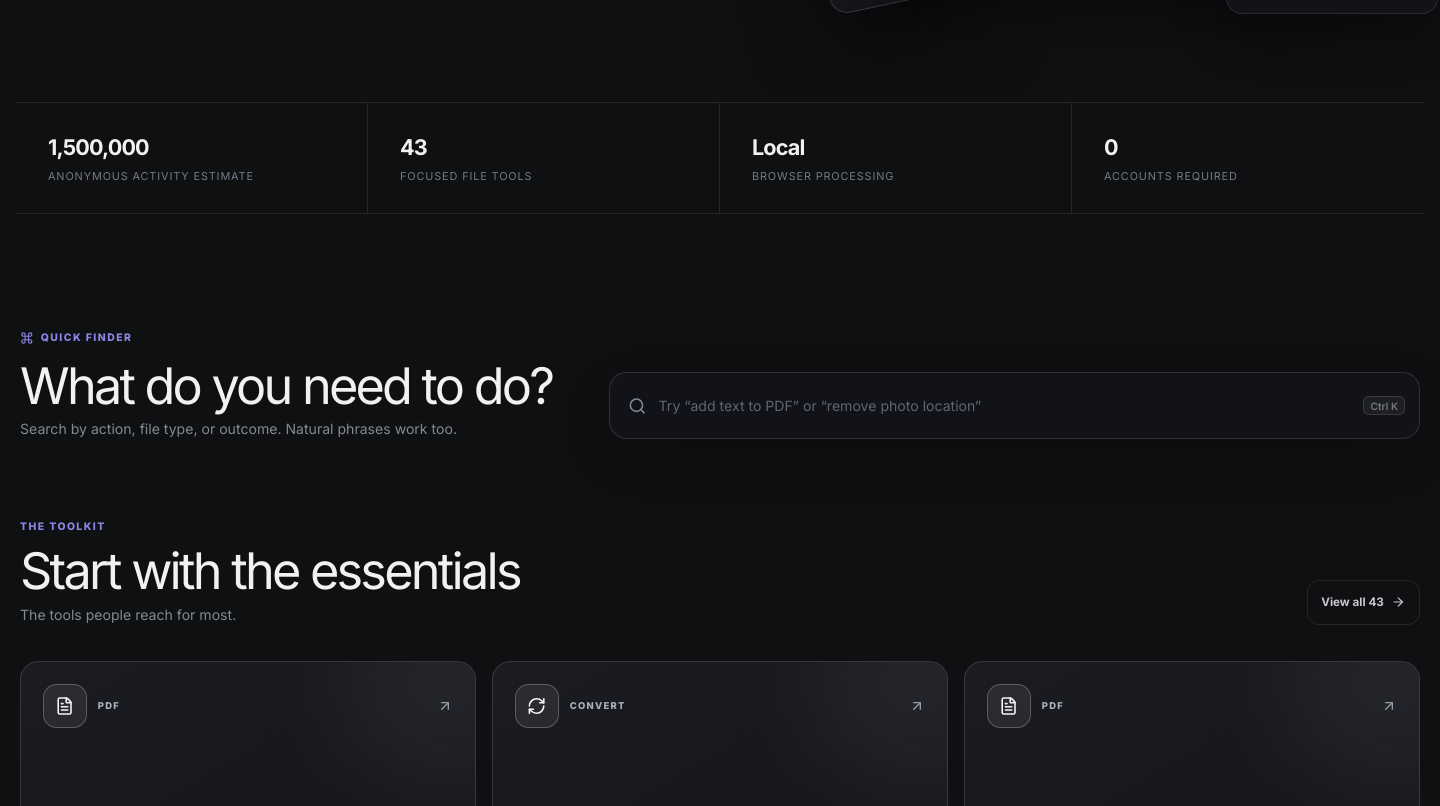
Test: Dashboard Component › recovers from close spelling mistakes and explains the smart match
(page scrolled)
In the search field named "Search all tools": x=1001, y=406 [659, 395, 1344, 416], type "imgae comrpessor"
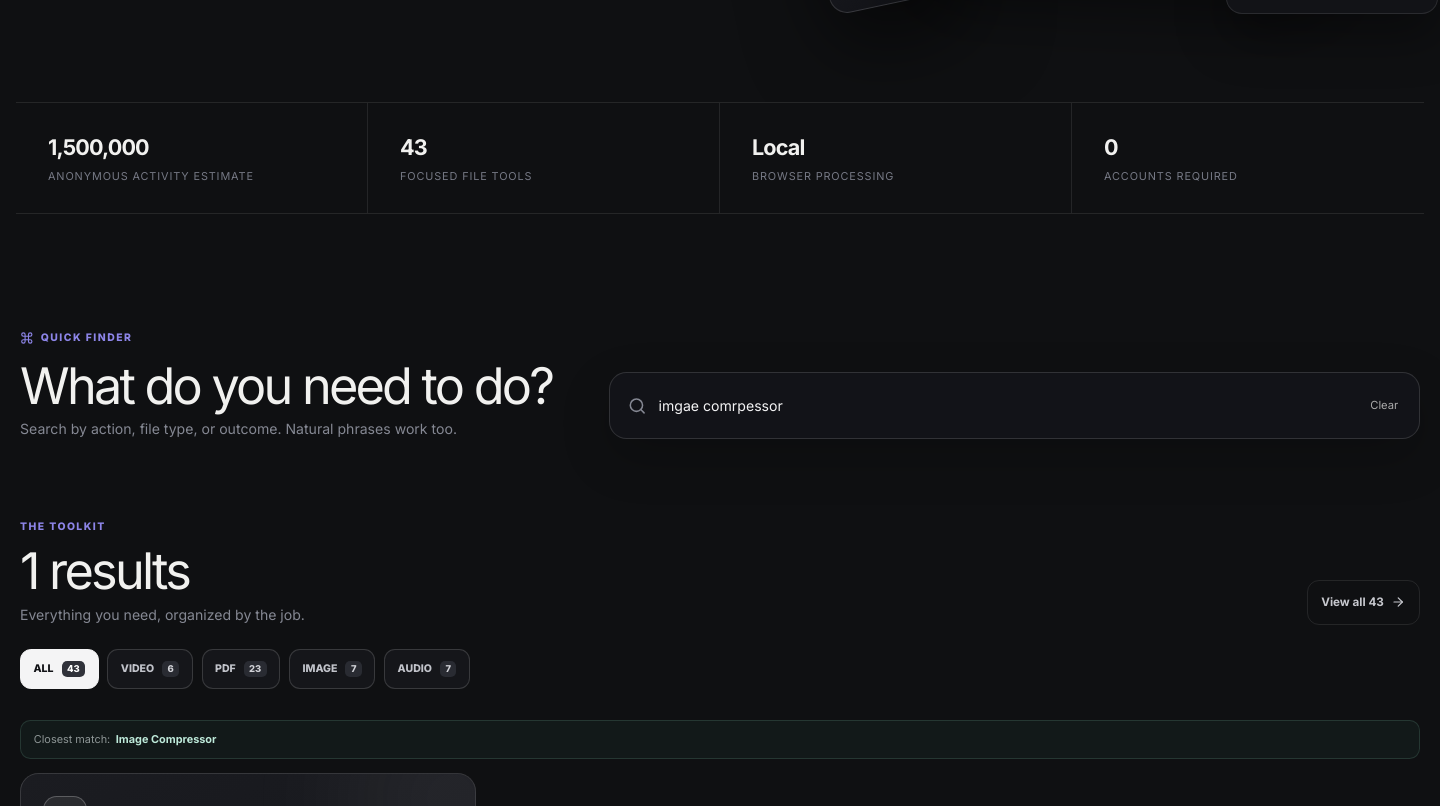
Now the message reads "Closest match: Image Compressor", box [20, 720, 1420, 759]
